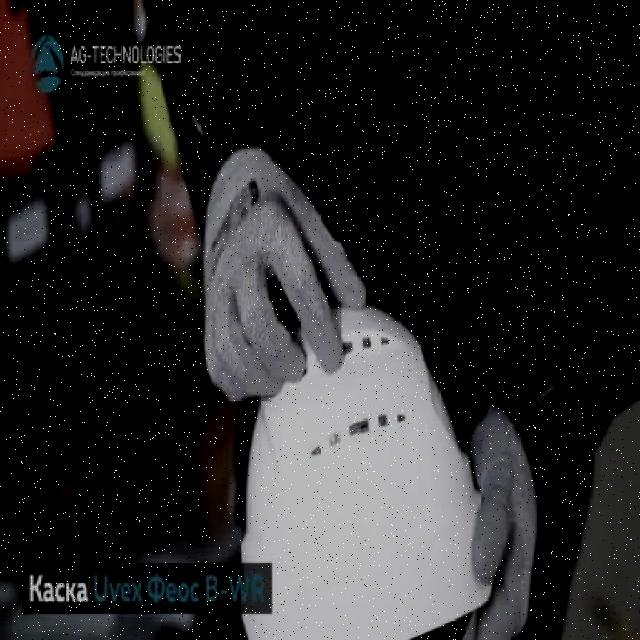Gloves: (200, 142, 369, 406), (458, 402, 542, 638)
Helmet: (237, 301, 496, 640)
